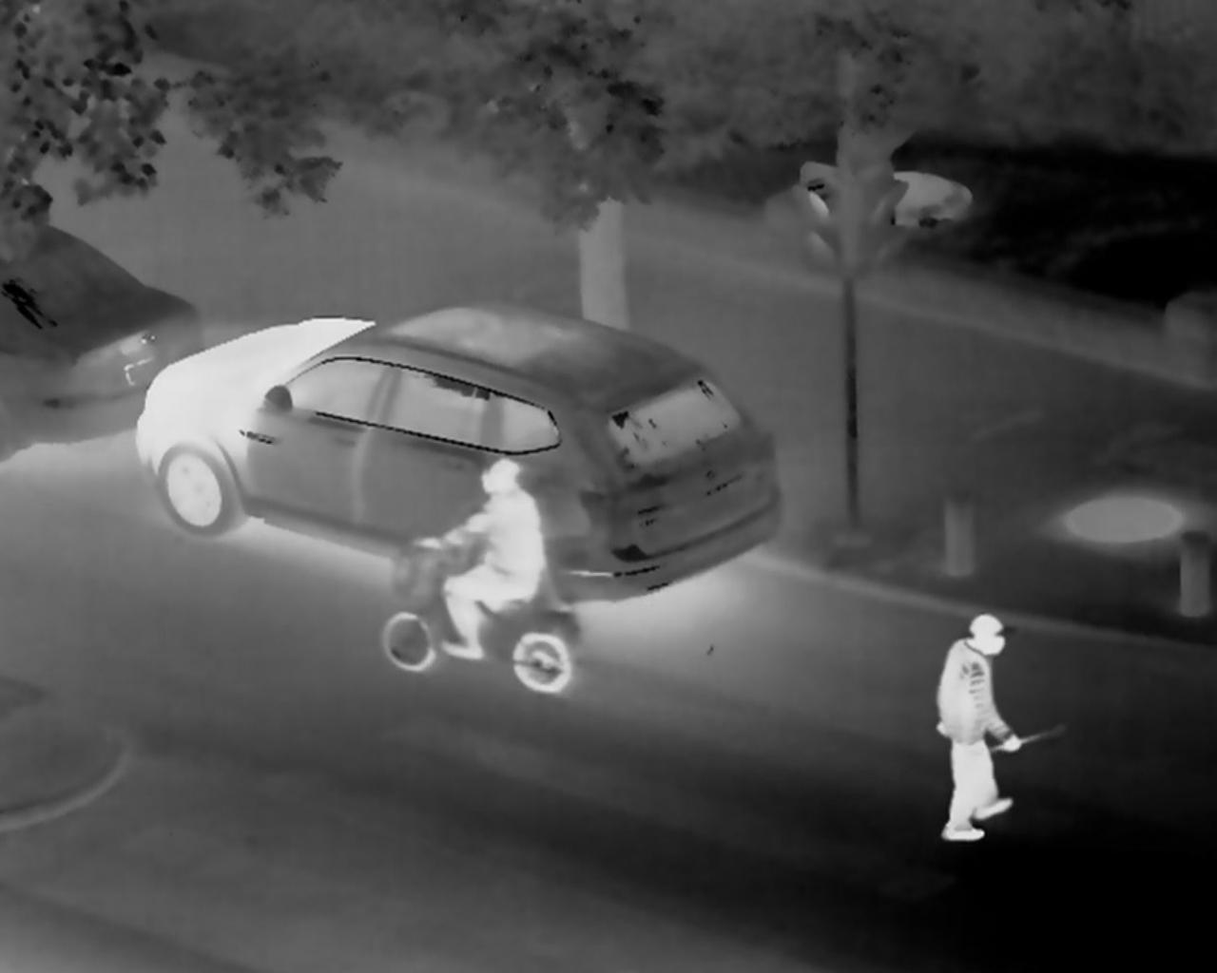person: (918, 601, 1073, 837), (435, 442, 573, 699)
